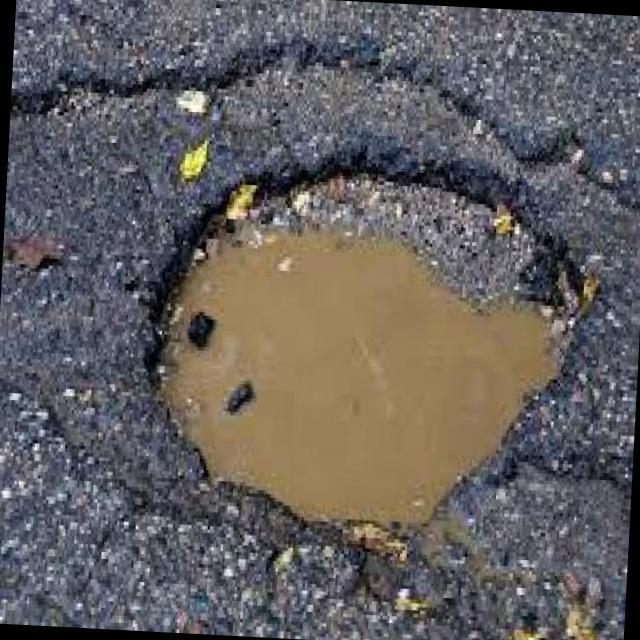Pothole: (148, 169, 610, 572)
